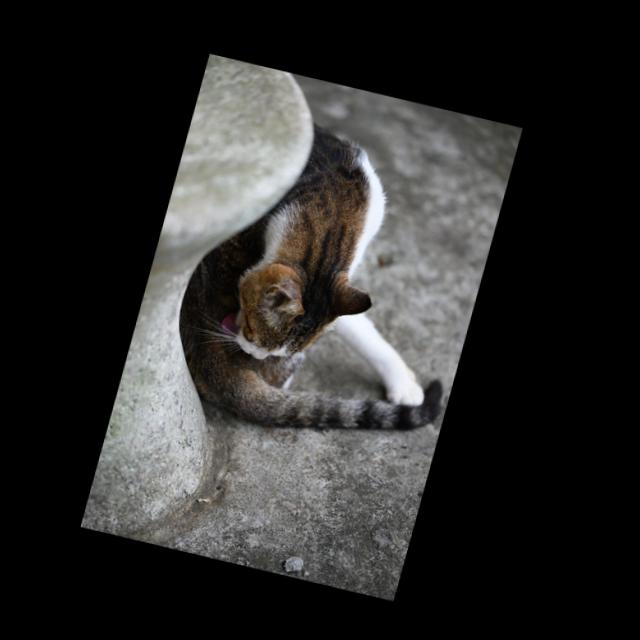animals: (157, 103, 510, 464)
